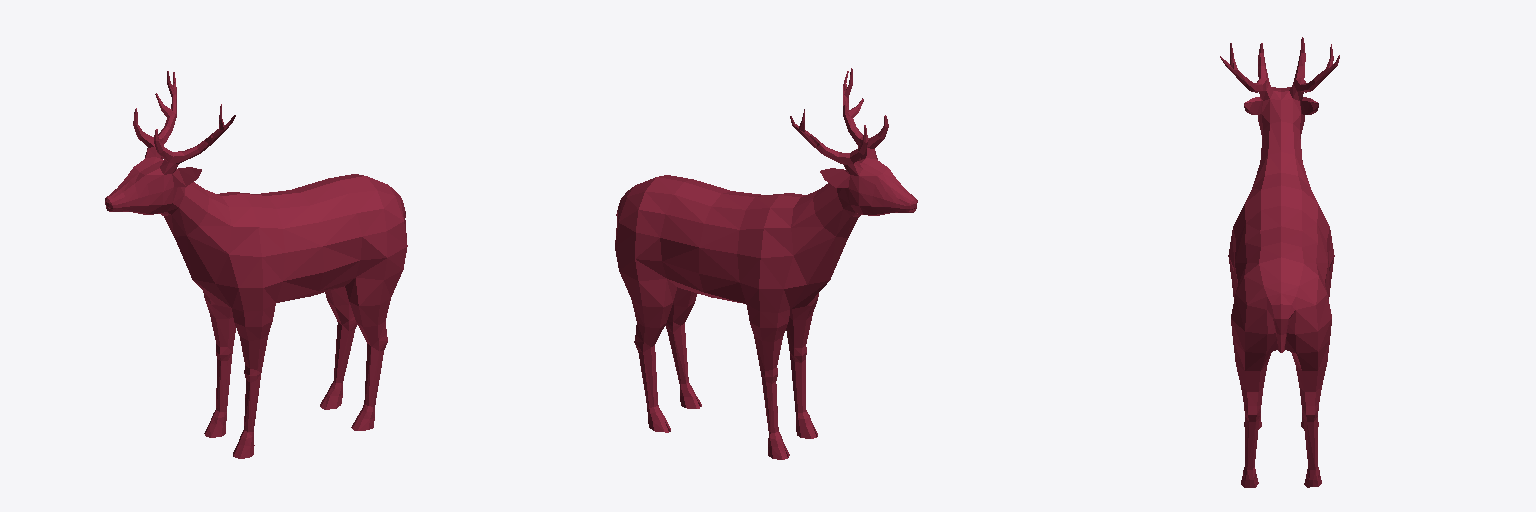
The model's file is deer.obj.
The picture shows the model from 3 angles: view 1: azimuth 30°, elevation 25°; view 2: azimuth 150°, elevation 25°; view 3: azimuth 270°, elevation 25°; orthographic projection.
Parts seen in each view (by area): view 1: Object.1; view 2: Object.1; view 3: Object.1.
Part boxes in pixels (bbox=[...]): Object.1: bbox=[105, 71, 407, 458]; Object.1: bbox=[615, 68, 917, 459]; Object.1: bbox=[1220, 37, 1339, 487].
Size of the model in its own units: 23.25 by 27.39 by 8.13.